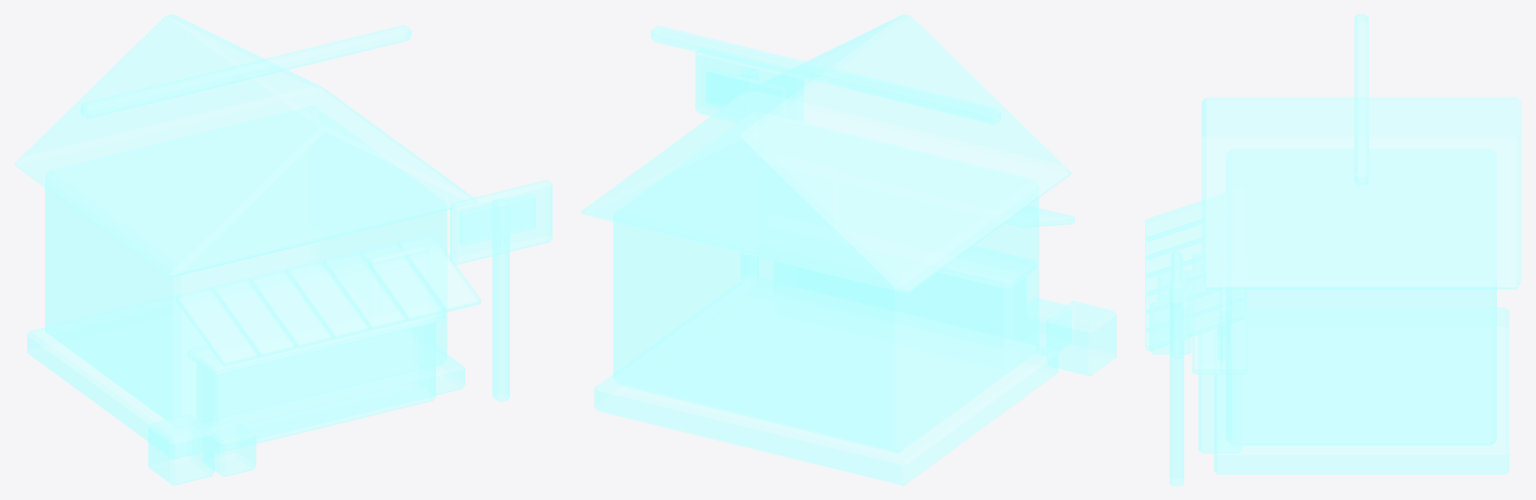
Rendered from GH_Building_Market.fbx.
3 views of the same model, side by side, from view 1: azimuth 30°, elevation 25°; view 2: azimuth 150°, elevation 25°; view 3: azimuth 270°, elevation 25° (orthographic). The views are drawn at different scales.
Visible parts, largest first — view 1: SM_Building_Market; view 2: SM_Building_Market; view 3: SM_Building_Market.
Boxes of the visible parts, left/top/right/bottom form: SM_Building_Market: left=14, top=14, right=552, bottom=485; SM_Building_Market: left=581, top=14, right=1116, bottom=485; SM_Building_Market: left=1145, top=14, right=1521, bottom=485.
Bounding box in the file's own units: 3.68 × 2.78 × 3.06.
